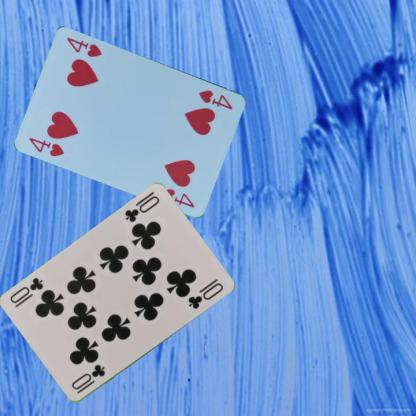10c: (69, 362, 107, 396), (122, 193, 161, 224)
4h: (26, 134, 66, 158), (196, 87, 234, 111)
